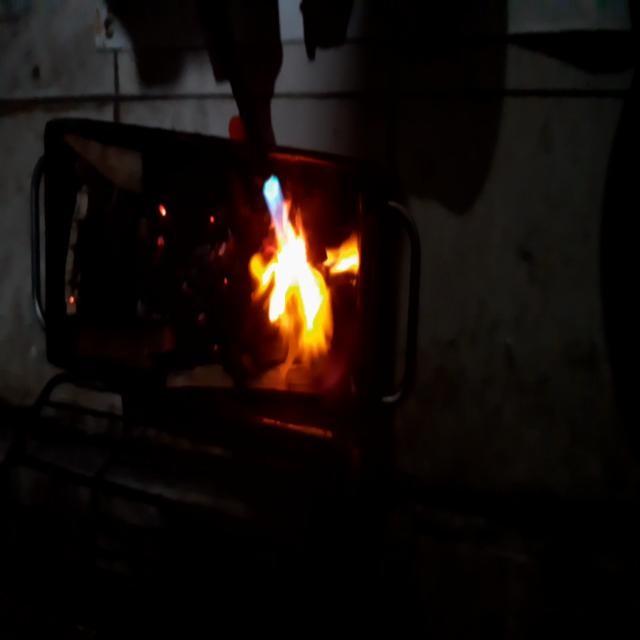Fire: (244, 166, 361, 412)
